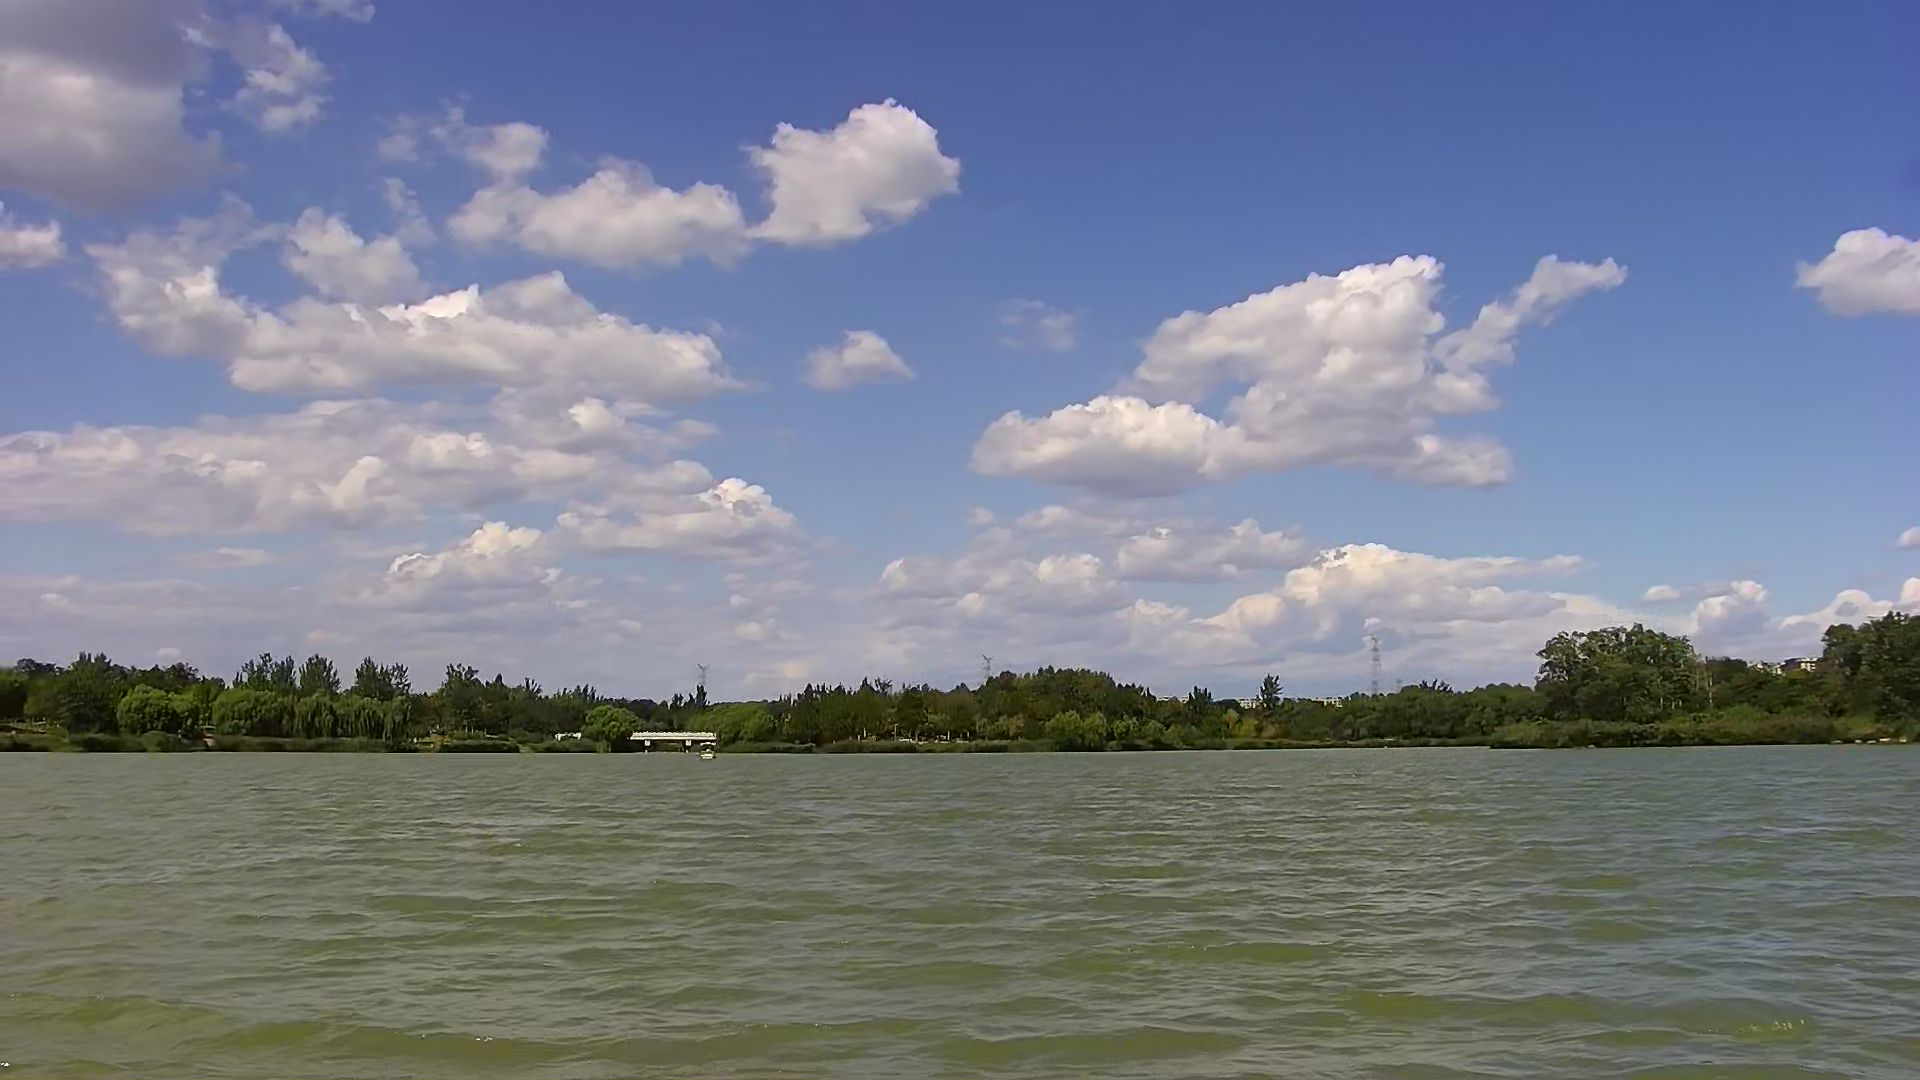bridge: (633, 723, 731, 760)
